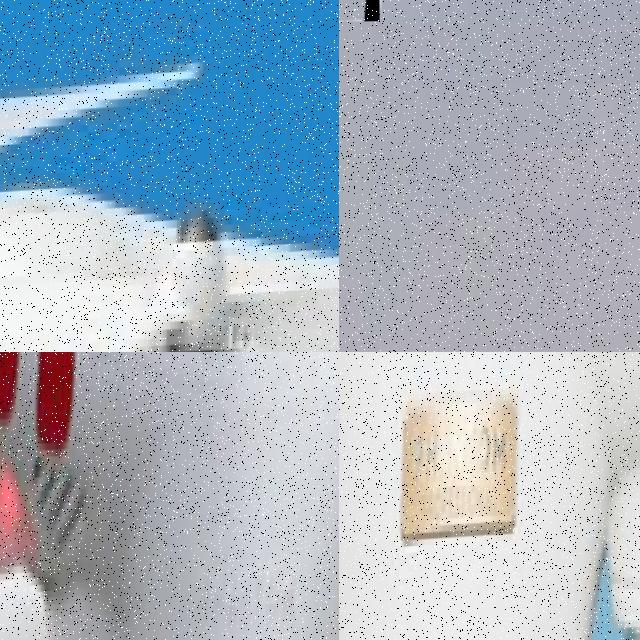drone: (0, 0, 339, 352), (0, 352, 339, 640), (339, 352, 640, 640)
